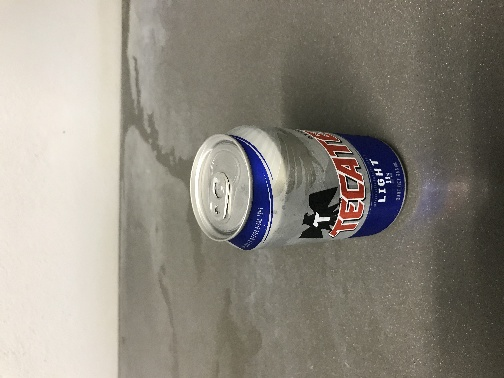TLL: (199, 93, 289, 173)
